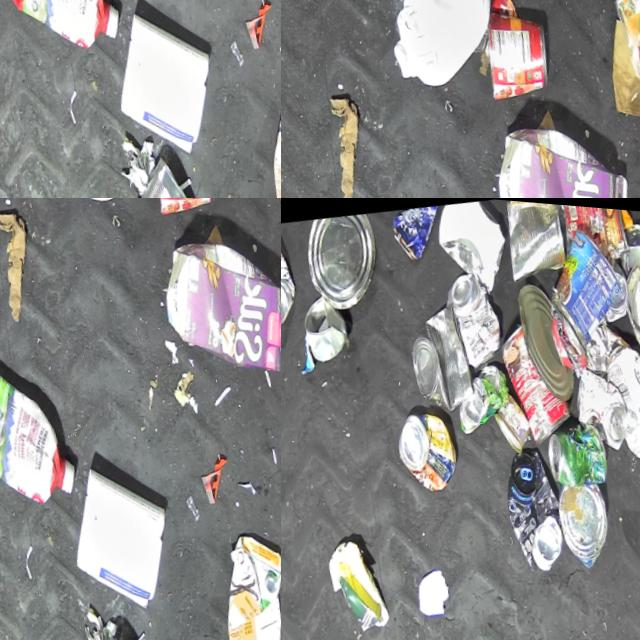can: (534, 212, 637, 350), (493, 309, 586, 445), (499, 439, 582, 573), (401, 293, 488, 415), (471, 0, 568, 109), (296, 206, 390, 318), (510, 271, 587, 400), (439, 262, 514, 370), (394, 402, 470, 495), (568, 353, 640, 451), (556, 472, 625, 568), (498, 198, 575, 281), (544, 411, 616, 488), (453, 355, 520, 433), (127, 146, 223, 198), (553, 198, 632, 261), (387, 198, 453, 264), (299, 288, 357, 362), (491, 384, 541, 452), (281, 225, 308, 334), (597, 251, 637, 317), (616, 251, 640, 355), (613, 210, 640, 271), (89, 619, 167, 640)
milk_jug: (364, 0, 523, 100)
